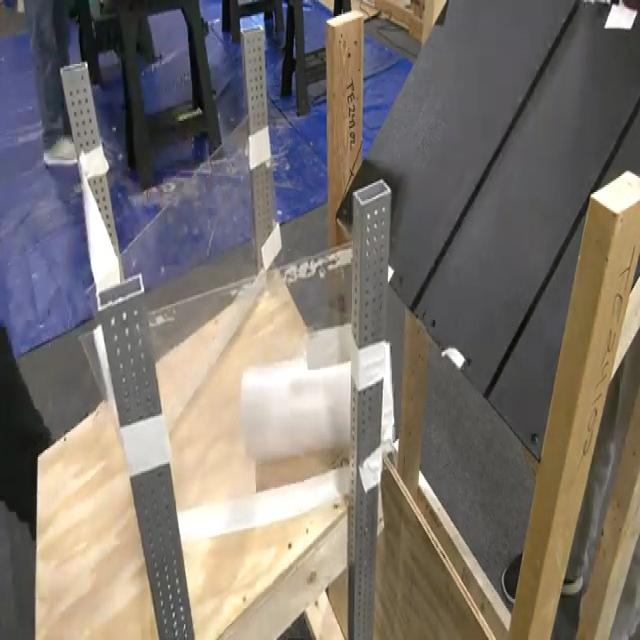Coral: (238, 350, 394, 466)
